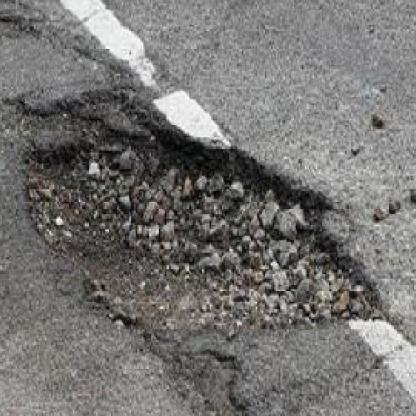pothole: (22, 97, 389, 343), (176, 345, 254, 416), (0, 0, 35, 48)
